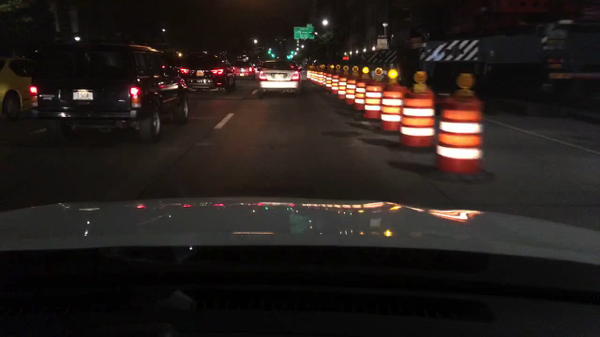car: (31, 39, 189, 143), (1, 55, 39, 119), (178, 51, 235, 93), (256, 60, 301, 97), (231, 61, 255, 79)
traffic light: (288, 54, 294, 59), (271, 53, 275, 59), (267, 49, 271, 54), (286, 55, 290, 59), (245, 57, 249, 61), (290, 51, 294, 54)
traffic sign: (294, 28, 315, 38), (411, 37, 421, 50), (377, 39, 389, 49), (377, 33, 387, 38), (306, 22, 312, 28), (342, 55, 349, 59)
